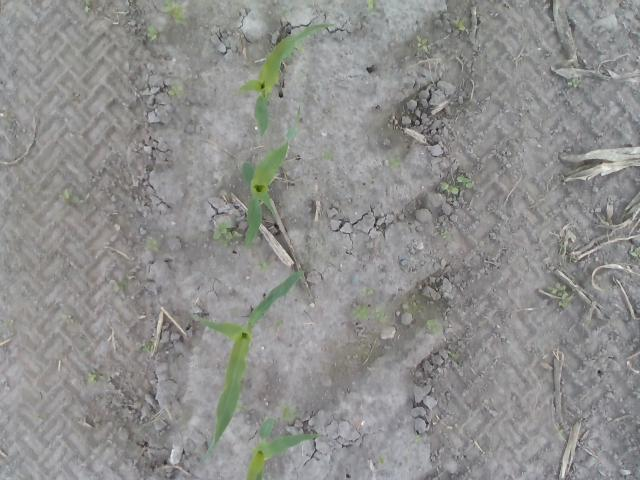Maize: (190, 272, 304, 466), (239, 20, 336, 140), (244, 104, 302, 246), (245, 418, 321, 480)
Weeds: (353, 302, 388, 322), (552, 284, 582, 307), (440, 176, 474, 196), (212, 222, 240, 244), (60, 188, 91, 206), (113, 275, 135, 295), (162, 2, 185, 19), (278, 404, 297, 420), (87, 372, 106, 386), (168, 84, 185, 98), (426, 319, 439, 335), (416, 36, 429, 50), (0, 317, 13, 331), (148, 238, 160, 252), (148, 27, 160, 41), (389, 158, 402, 170), (454, 20, 466, 33), (630, 245, 640, 259), (376, 456, 386, 468), (145, 341, 154, 354), (558, 426, 565, 442), (568, 78, 580, 87), (361, 287, 373, 296), (414, 434, 426, 443), (64, 314, 76, 323), (36, 416, 46, 426), (324, 150, 334, 160), (366, 0, 375, 10), (402, 456, 410, 466), (447, 352, 458, 359), (84, 2, 91, 13), (276, 320, 284, 329)
